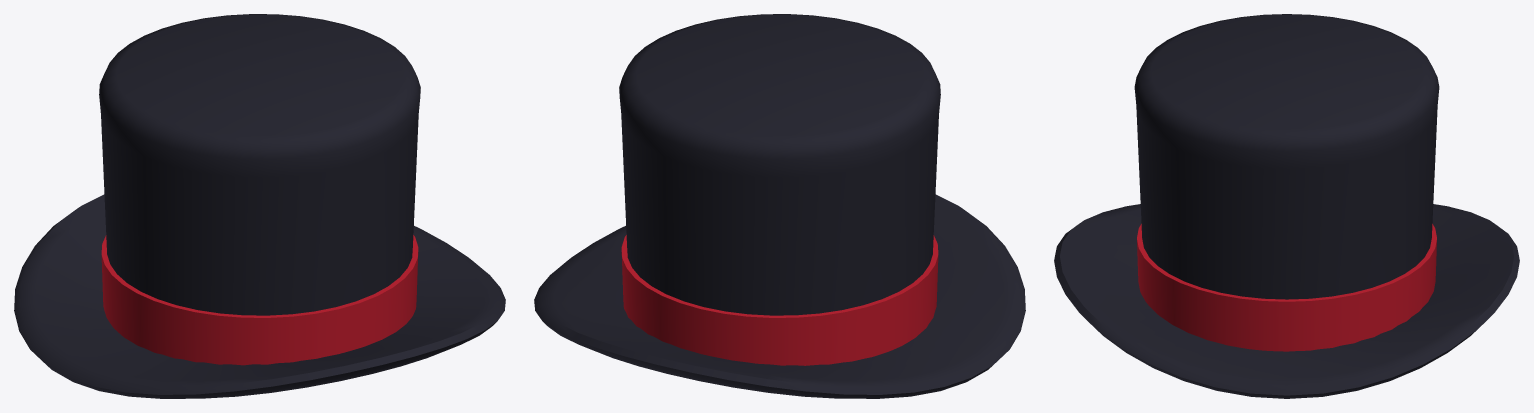
File: hat_top_hat.glb
3 views of the same model, side by side, from view 1: azimuth 30°, elevation 25°; view 2: azimuth 150°, elevation 25°; view 3: azimuth 270°, elevation 25° (orthographic). The views are drawn at different scales.
Visible parts, largest first — view 1: hat_top_hat; view 2: hat_top_hat; view 3: hat_top_hat.
Boxes of the visible parts, x1=… form: hat_top_hat: x1=14, y1=14, x2=505, y2=398; hat_top_hat: x1=534, y1=14, x2=1025, y2=398; hat_top_hat: x1=1054, y1=14, x2=1519, y2=398.
Size of the model in its own units: 0.81 by 0.448 by 0.81.
